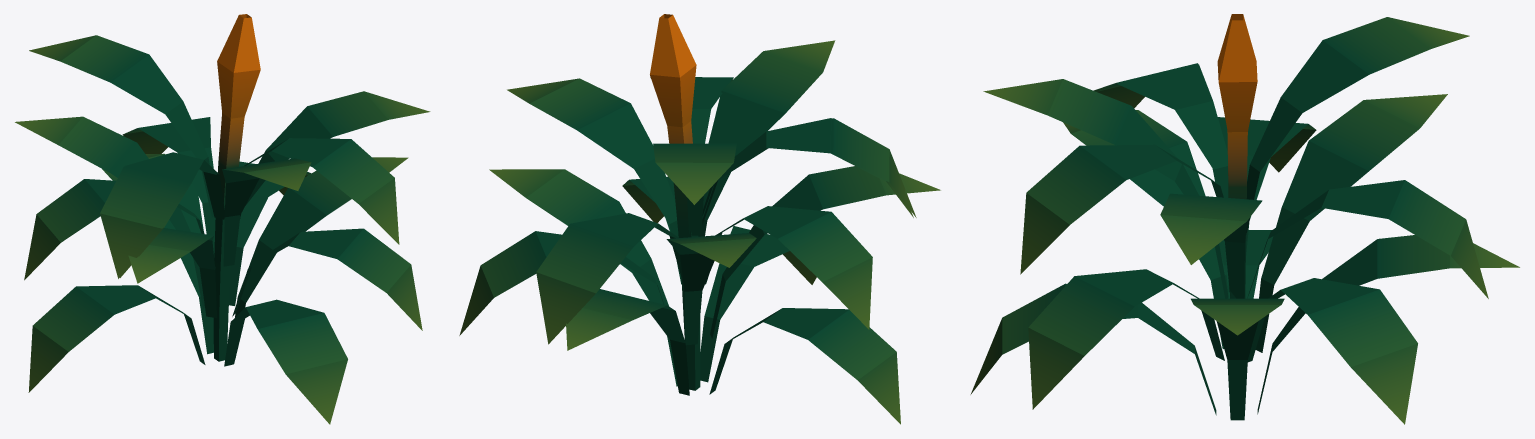
Rendered from plant_2.fbx.
The picture shows the model from 3 angles, left to right: view 1: azimuth 30°, elevation 25°; view 2: azimuth 150°, elevation 25°; view 3: azimuth 270°, elevation 25°; orthographic projection. The views are drawn at different scales.
Parts seen in each view (by area): view 1: plant_2; view 2: plant_2; view 3: plant_2.
Part boxes in pixels (box(x1,y1,x2,y2)): plant_2: box(15, 14, 430, 424); plant_2: box(459, 14, 940, 424); plant_2: box(970, 14, 1519, 424).
Bounding box in the file's own units: 2.96 × 2.5 × 3.03.
